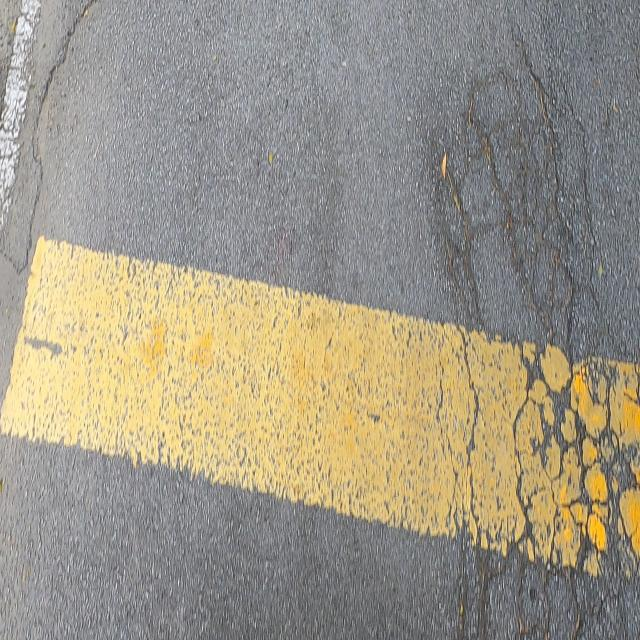Retak-Buaya: (429, 48, 640, 635)
Retak-Memanjang: (14, 3, 98, 276)
